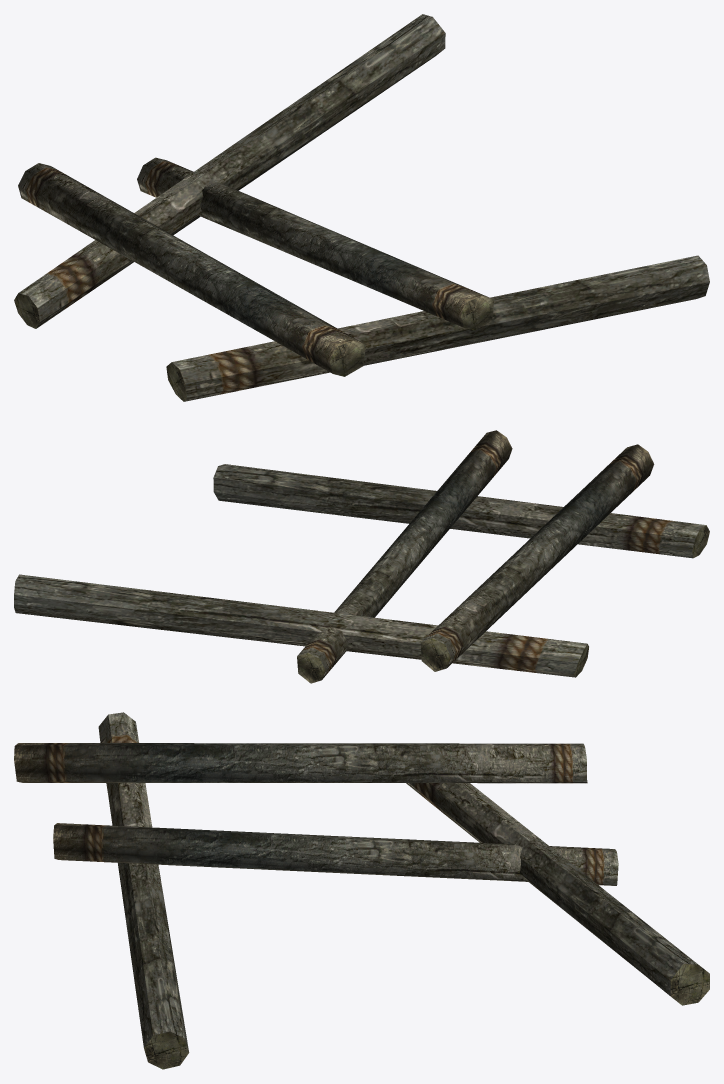
The model's file is camp_woodhut_break02.fbx.
3 renders of one model, top to bottom at view 1: azimuth 30°, elevation 25°; view 2: azimuth 150°, elevation 25°; view 3: azimuth 270°, elevation 25°, orthographic. The views are drawn at different scales.
Visible parts, largest first — view 1: camp_woodhut_break02; view 2: camp_woodhut_break02; view 3: camp_woodhut_break02.
Part boxes in pixels (bbox=[...]): camp_woodhut_break02: bbox=[14, 14, 709, 401]; camp_woodhut_break02: bbox=[14, 430, 709, 683]; camp_woodhut_break02: bbox=[14, 712, 709, 1069].
Bounding box in the file's own units: 4.9 × 0.9498 × 5.18.
